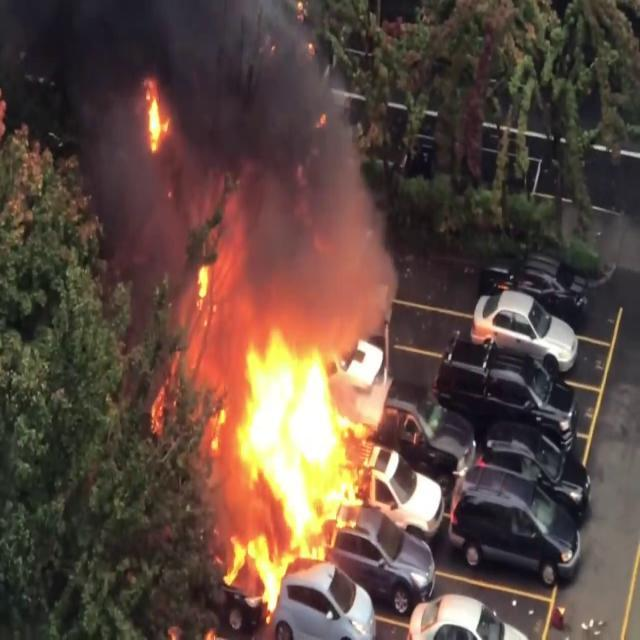Fire: (199, 323, 425, 609), (142, 74, 166, 149)
Smoke: (66, 0, 404, 367)
